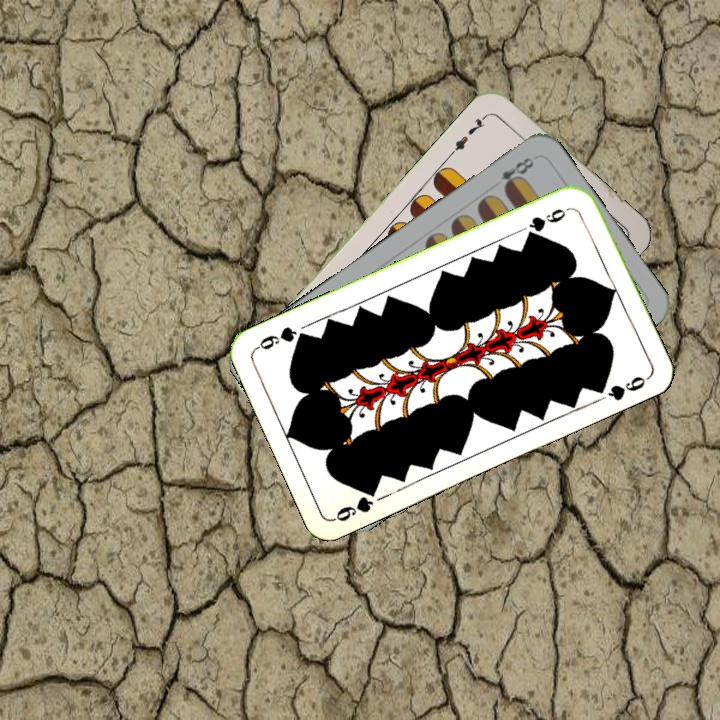E7: (446, 110, 491, 158)
E8: (496, 153, 537, 194)
G9: (330, 482, 381, 524), (522, 203, 574, 240)
